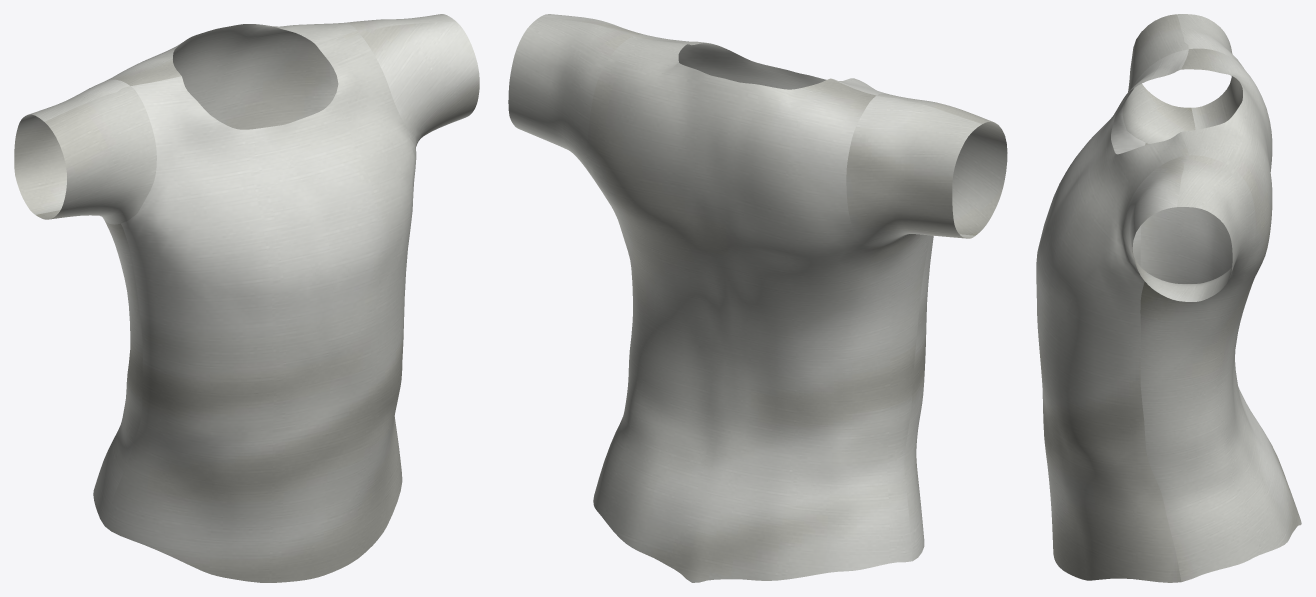
Rendered from huku01.fbx.
3 renders of one model, left to right at view 1: azimuth 30°, elevation 25°; view 2: azimuth 150°, elevation 25°; view 3: azimuth 270°, elevation 25°, orthographic. The views are drawn at different scales.
Parts seen in each view (by area): view 1: Huku01; view 2: Huku01; view 3: Huku01.
Part boxes in pixels (x1,y1,x2,y2): Huku01: (14,14,479,582); Huku01: (508,14,1007,582); Huku01: (1036,14,1301,582).
Bounding box in the file's own units: 46.73 × 51.26 × 26.96.
